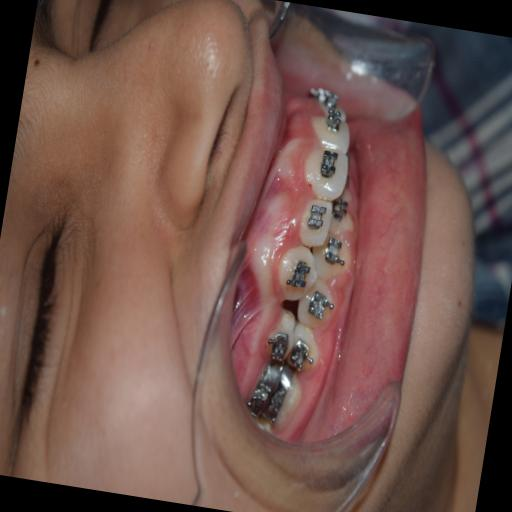correct_brace: (282, 322, 327, 384), (260, 304, 298, 368), (283, 336, 319, 378), (282, 257, 314, 294), (316, 148, 342, 182), (304, 201, 330, 234)
incorrect_brace: (296, 194, 336, 250), (263, 328, 290, 366)
